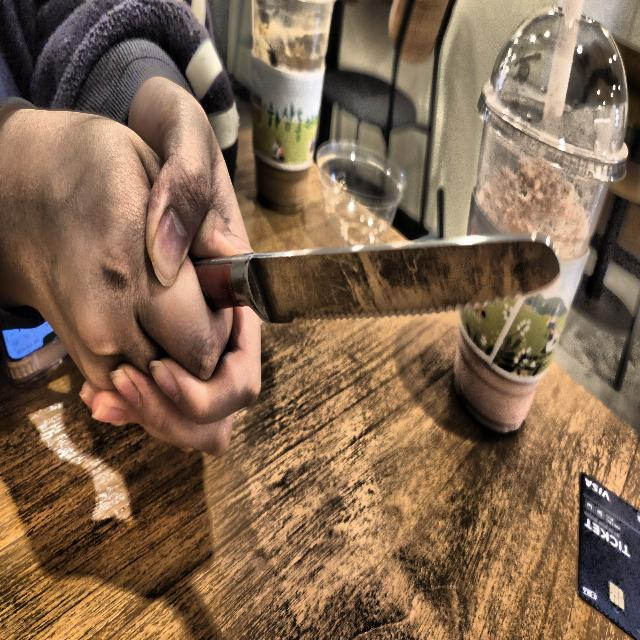knife: (180, 232, 563, 330)
